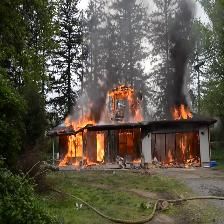fire: (67, 121, 104, 163), (109, 89, 133, 97), (175, 108, 193, 118)
smoke: (173, 20, 191, 102)
